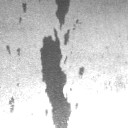red iron: (40, 0, 82, 128), (9, 96, 14, 112), (22, 2, 28, 14), (78, 67, 84, 75), (6, 45, 11, 54), (18, 16, 22, 24), (16, 48, 20, 56)
